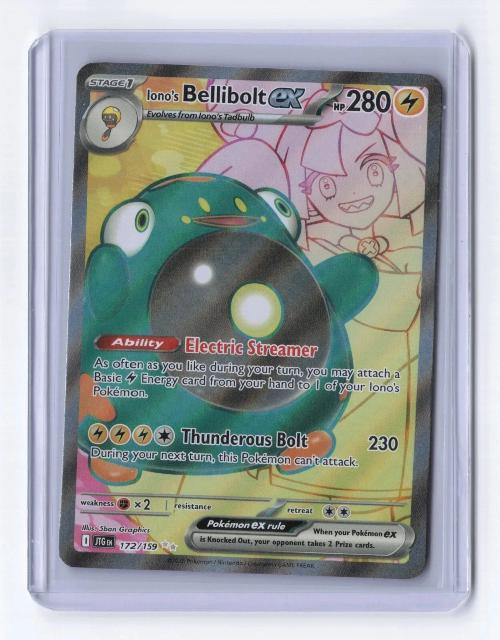Card: (54, 59, 446, 583)
Name: (141, 78, 310, 113)
